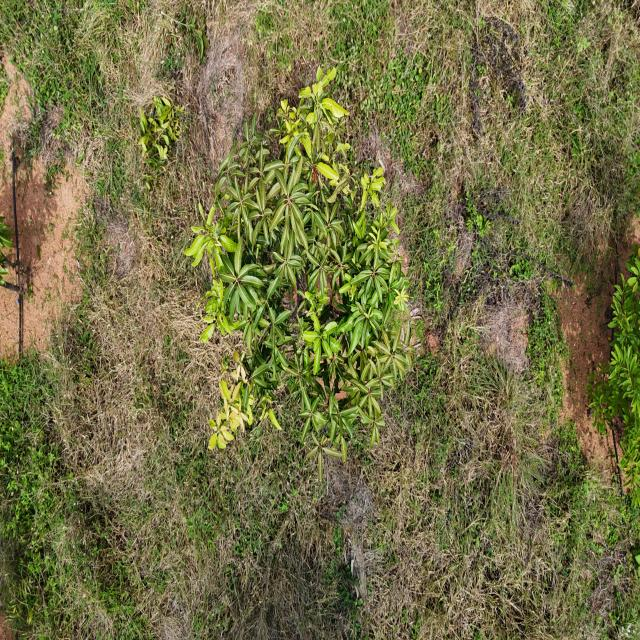mangoTree: (182, 61, 418, 489)
notMangoTree: (588, 234, 640, 530)
